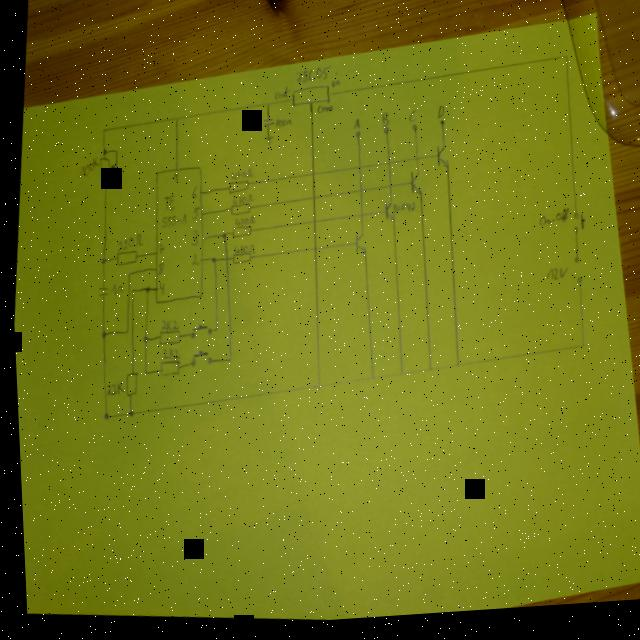capacitor: (92, 284, 106, 297), (259, 118, 272, 130)
crossover: (306, 172, 314, 181), (306, 195, 314, 203), (382, 162, 390, 170), (307, 247, 314, 255), (353, 190, 361, 197), (352, 166, 360, 173), (384, 185, 391, 193), (410, 158, 417, 166), (219, 256, 226, 264), (307, 220, 314, 227), (354, 214, 361, 221)
ground: (260, 134, 272, 149)
junction: (95, 255, 104, 267), (95, 328, 104, 340), (96, 409, 105, 421), (121, 408, 130, 417), (206, 256, 214, 266), (363, 376, 371, 385), (137, 334, 144, 344), (125, 287, 133, 295), (310, 384, 318, 392), (449, 364, 456, 373), (393, 372, 400, 381), (574, 346, 581, 355), (97, 126, 104, 135), (221, 356, 228, 365), (217, 232, 224, 241), (261, 102, 268, 110), (170, 115, 177, 123), (140, 285, 147, 293), (110, 147, 117, 155), (98, 147, 105, 155), (422, 369, 429, 376), (561, 59, 568, 66), (120, 327, 125, 334), (123, 270, 128, 277), (138, 370, 143, 376), (209, 327, 214, 333)
resistor: (95, 154, 117, 183), (153, 358, 176, 378), (111, 248, 135, 267), (152, 329, 177, 347), (119, 370, 134, 397), (225, 201, 247, 219), (223, 179, 245, 196), (227, 252, 249, 267), (227, 226, 248, 241)
switch: (184, 348, 209, 370), (184, 322, 209, 341), (567, 215, 583, 239)
terminal: (350, 131, 360, 143), (407, 125, 417, 137), (568, 259, 577, 272), (570, 280, 579, 292), (379, 129, 388, 139), (436, 122, 443, 132)
text: (155, 193, 187, 231), (291, 64, 329, 89), (532, 209, 567, 236), (112, 230, 141, 254), (74, 153, 97, 179), (540, 270, 564, 288), (388, 203, 413, 219), (226, 167, 249, 184), (100, 378, 120, 397), (228, 242, 251, 258), (229, 214, 253, 229), (155, 316, 176, 333), (227, 193, 250, 208), (270, 86, 288, 103), (156, 346, 176, 361), (271, 119, 290, 131), (313, 105, 330, 118), (106, 281, 119, 298), (185, 228, 196, 248), (328, 73, 339, 90), (404, 111, 415, 127), (377, 114, 387, 131), (186, 206, 197, 221), (154, 280, 163, 297), (186, 252, 196, 267), (434, 108, 443, 123), (152, 261, 161, 276), (167, 172, 177, 184), (349, 120, 358, 133), (188, 185, 195, 199), (153, 242, 161, 254)
transistor: (432, 146, 449, 174), (404, 173, 421, 199), (349, 233, 365, 257), (378, 203, 393, 225)
